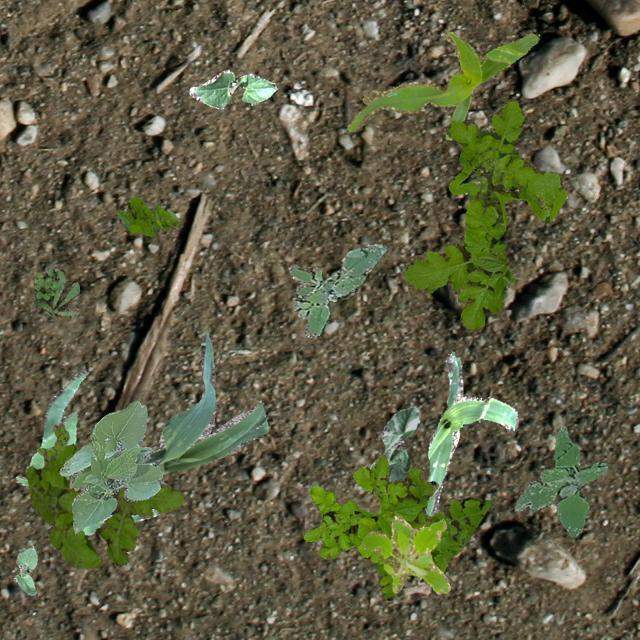crop: (13, 368, 160, 534), (347, 30, 538, 138), (136, 332, 268, 472), (424, 352, 516, 516), (58, 400, 162, 532), (368, 404, 418, 480), (188, 70, 276, 108), (14, 544, 36, 596)
weed: (402, 97, 566, 330), (303, 454, 492, 600), (24, 442, 184, 568), (514, 424, 606, 536), (288, 244, 387, 336), (360, 514, 450, 592), (115, 196, 178, 234), (32, 266, 78, 318), (36, 422, 68, 463)
